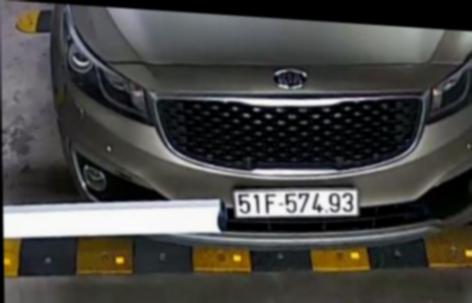License_Plate: (229, 179, 362, 226)
